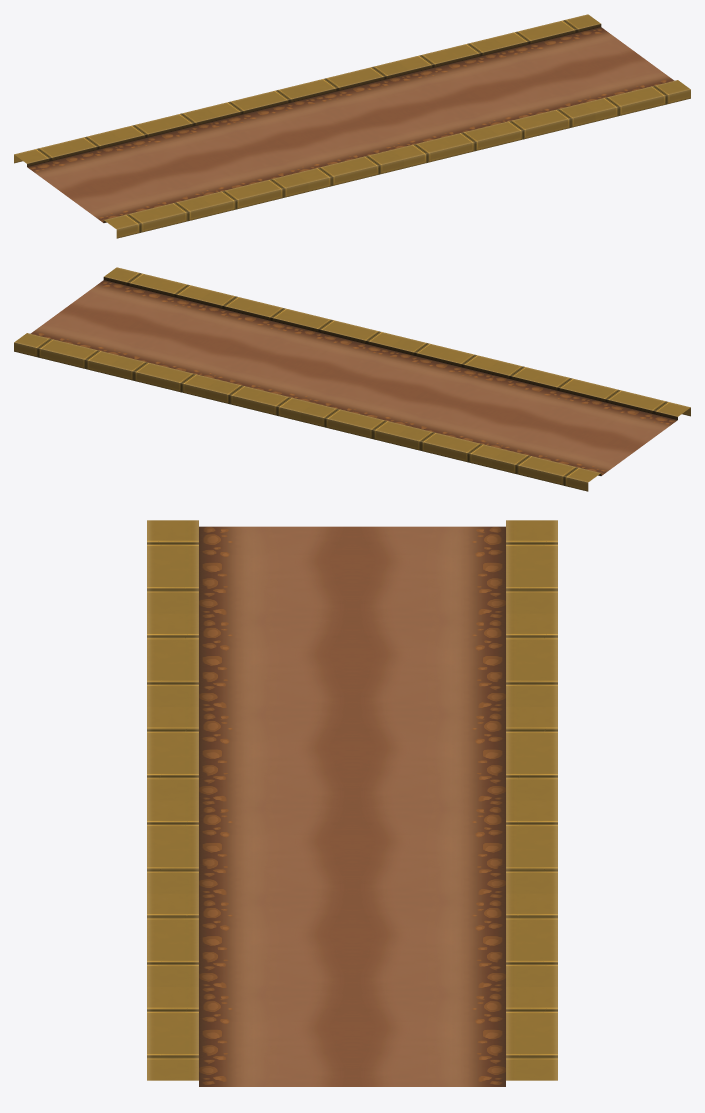
Rendered from RoadPiece_03.FBX.
The picture shows the model from 3 angles, top to bottom: view 1: azimuth 30°, elevation 25°; view 2: azimuth 150°, elevation 25°; view 3: azimuth 270°, elevation 25°; orthographic projection. The views are drawn at different scales.
Parts seen in each view (by area): view 1: RoadPiece_03; view 2: RoadPiece_03; view 3: RoadPiece_03.
Part boxes in pixels (box(x1,y1,x2,y2)): RoadPiece_03: box(14, 14, 690, 238); RoadPiece_03: box(14, 267, 690, 491); RoadPiece_03: box(147, 520, 557, 1086).
Size of the model in its own units: 5.26 by 0.0795 by 1.63.
